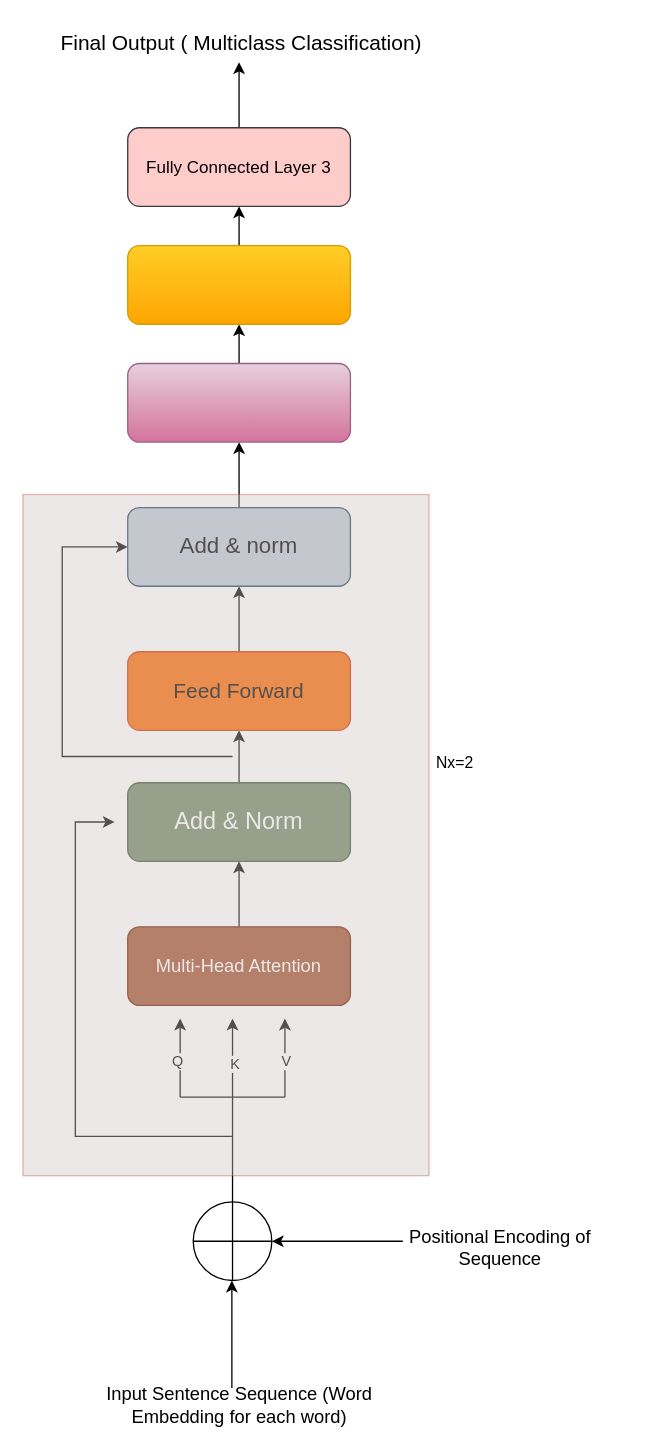
Some shapes in this 648 by 1449 pixel diagram are drawn without their labels. The shapes that lost their labels are listed below. From the top down, each one's box as (x1, y1, x2, y2) in pixels, then its label:
(126, 244, 350, 324): Fully Connected Layer 2
(126, 362, 350, 442): Fully Connected Layer 1
(22, 493, 429, 1176): Encoder Block
